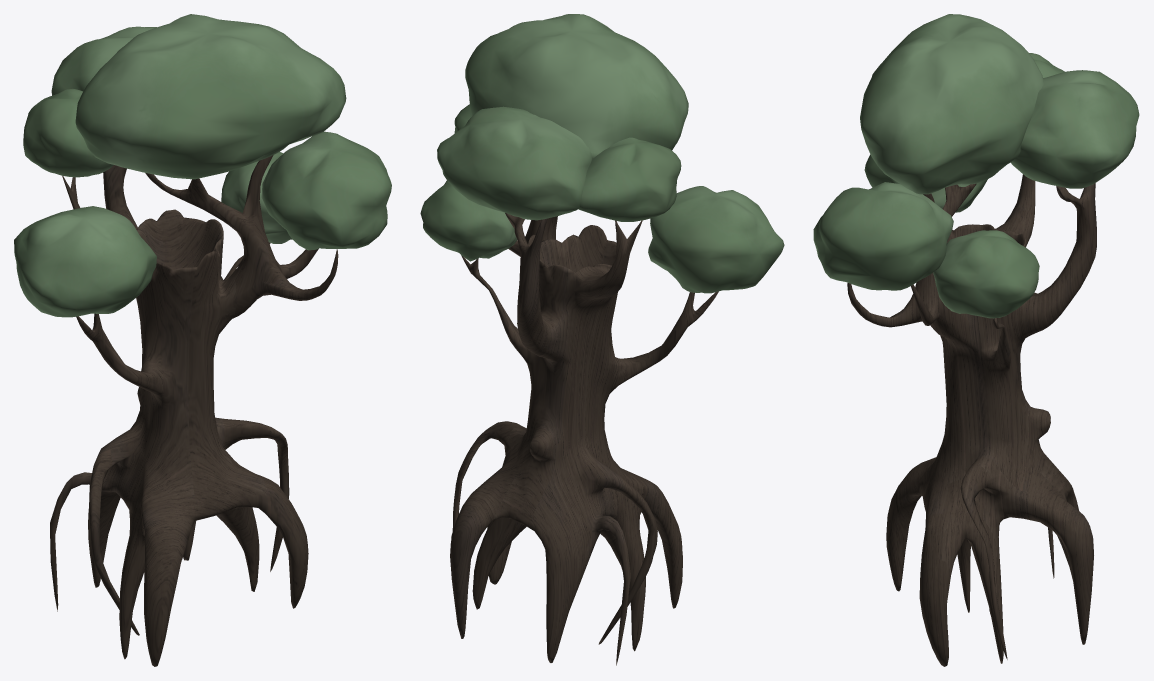
The model's file is WOOD_FINAL 1.FBX.
3 views of the same model, side by side, from view 1: azimuth 30°, elevation 25°; view 2: azimuth 150°, elevation 25°; view 3: azimuth 270°, elevation 25° (orthographic). The views are drawn at different scales.
Visible parts, largest first — view 1: Cube.002; view 2: Cube.002; view 3: Cube.002.
Part boxes in pixels (left/top/right/bottom): Cube.002: left=14, top=14, right=391, bottom=666; Cube.002: left=420, top=14, right=784, bottom=665; Cube.002: left=813, top=14, right=1139, bottom=666.
Bounding box in the file's own units: 667 × 1154 × 559.
1 material, 1 textured.
